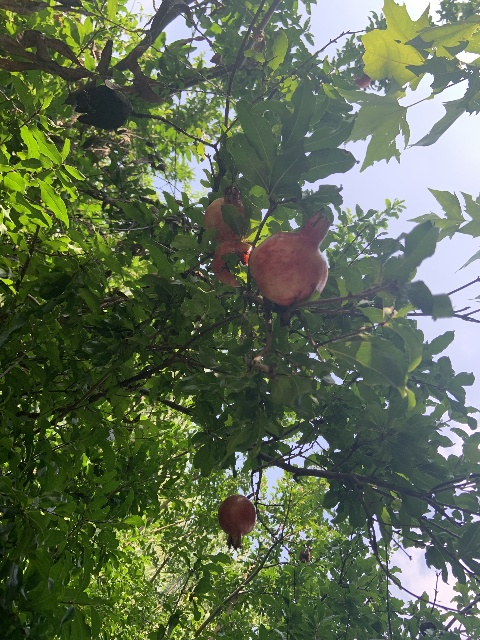ripe: (249, 212, 330, 306), (203, 184, 245, 242), (217, 494, 256, 550), (210, 240, 251, 287)
